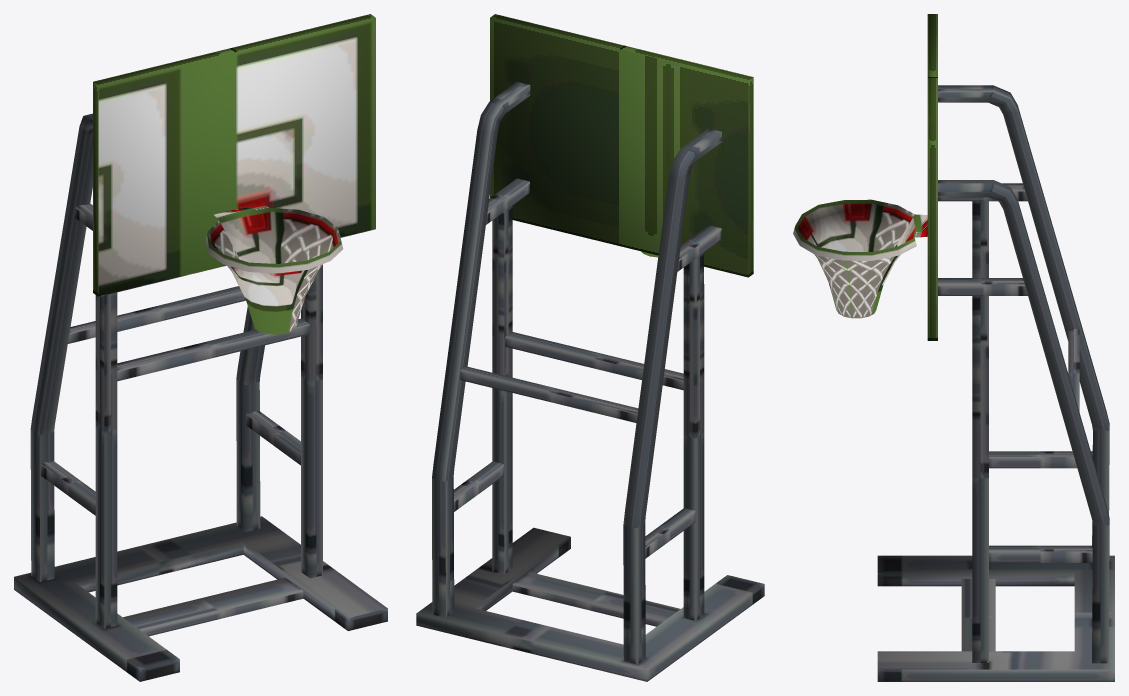
File: int_oth_basketgoal.dae
The picture shows the model from 3 angles, left to right: view 1: azimuth 30°, elevation 25°; view 2: azimuth 150°, elevation 25°; view 3: azimuth 270°, elevation 25°; orthographic projection. The views are drawn at different scales.
Parts seen in each view (by area): view 1: int_oth_basketgoal; view 2: int_oth_basketgoal; view 3: int_oth_basketgoal.
Part boxes in pixels (bbox=[...]): int_oth_basketgoal: bbox=[14, 14, 387, 681]; int_oth_basketgoal: bbox=[416, 14, 764, 681]; int_oth_basketgoal: bbox=[793, 14, 1114, 681].
Bounding box in the file's own units: 53.53 × 107 × 57.05.
Materials: 3 (3 with a texture image).
